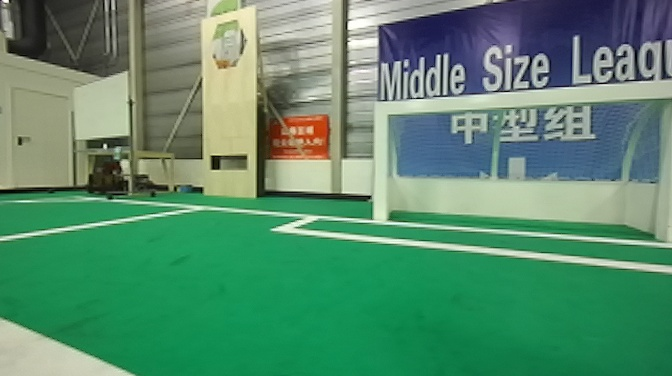goalpost: (369, 95, 398, 229)
